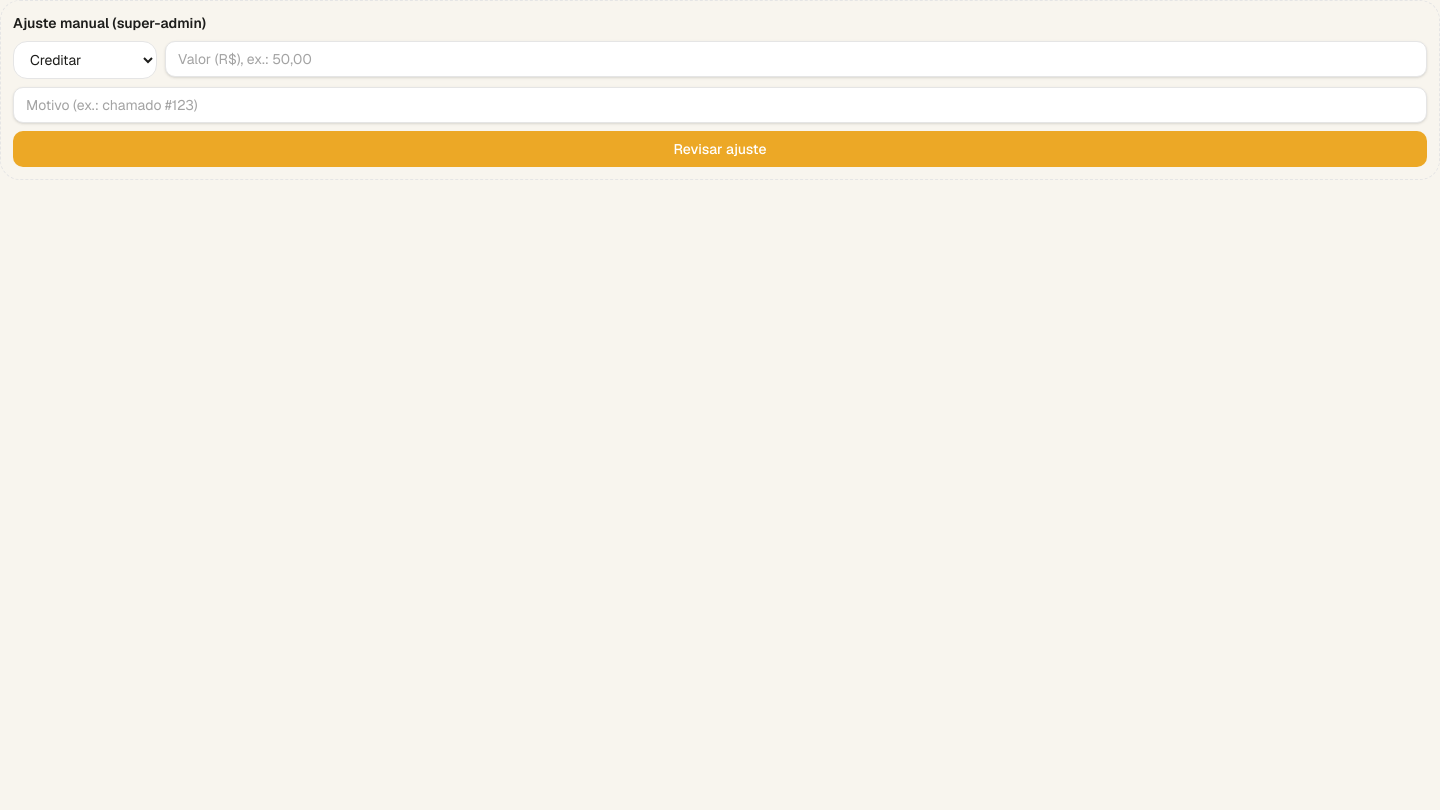
Test case: Ajuste manual da carteira › débito maior que o saldo: avisa e não deixa confirmar
Select "Debitar" in the dropdown named "Sentido do ajuste" at [85, 60], box left=13, top=41, right=157, bottom=79
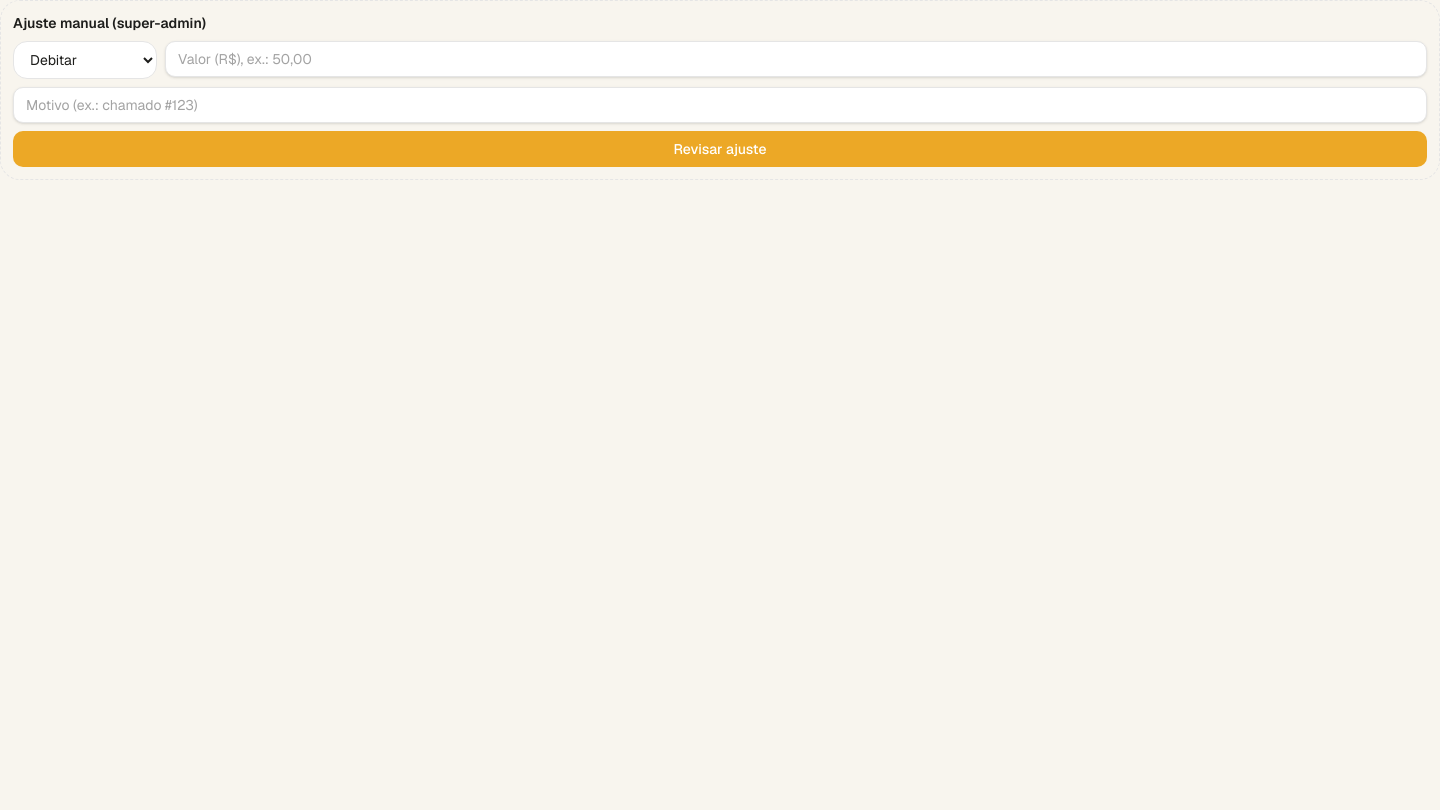
Type "50,00" into the field labelled "Valor (R$)" at [796, 59], box left=165, top=41, right=1427, bottom=77
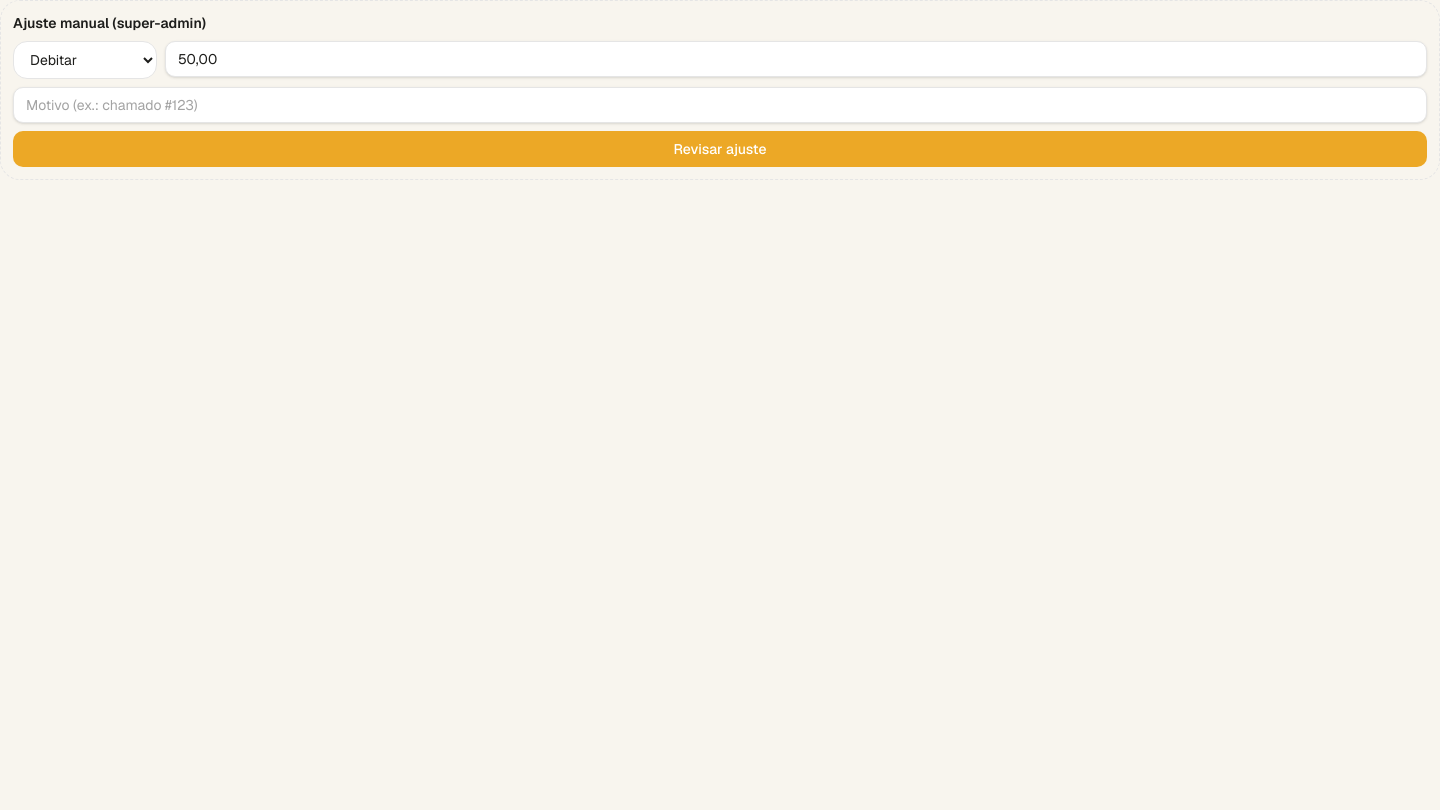
Type "Chamado #123" into the field labelled "Motivo" at [720, 105], box left=13, top=87, right=1427, bottom=123
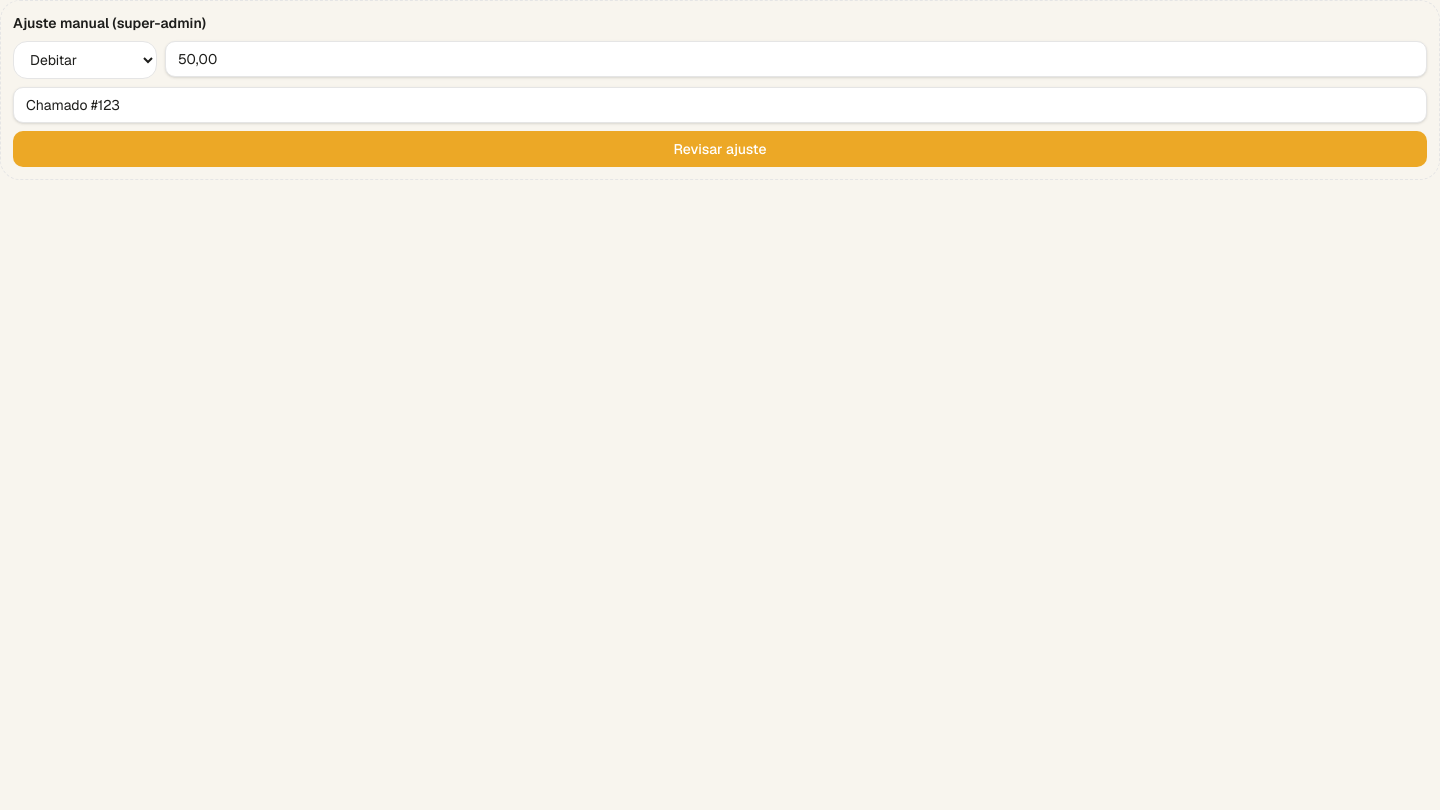
Click the button "Revisar ajuste" at [720, 149], box left=13, top=131, right=1427, bottom=167
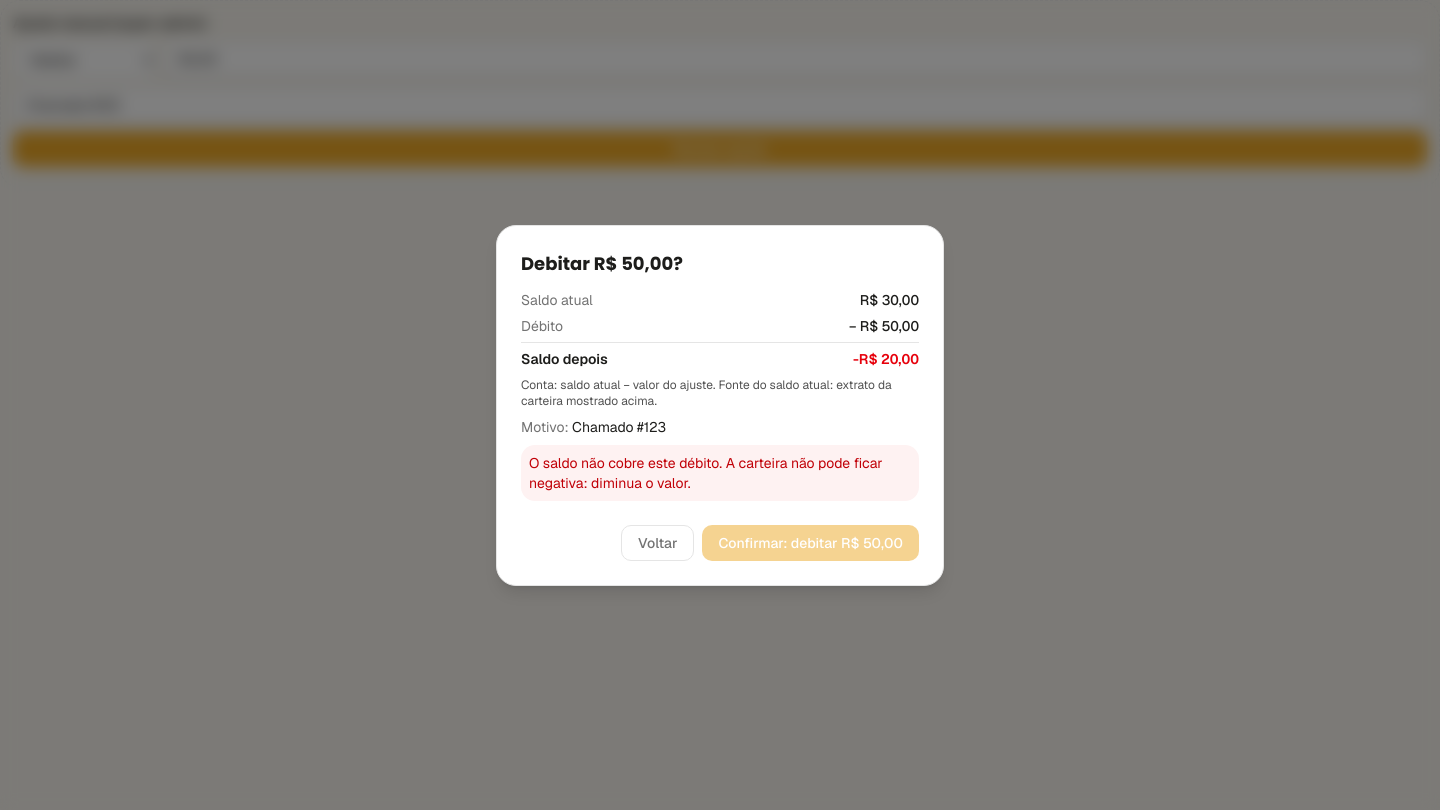
expect the message shows "O saldo não cobre este débito": met, box left=529, top=454, right=883, bottom=492
expect the text with test id "wallet-adjust-after" reads "-R$ 20,00": met, box left=853, top=350, right=919, bottom=368
expect the button "Confirmar: debitar R$ 50,00" is disabled: met, box left=702, top=524, right=919, bottom=560
